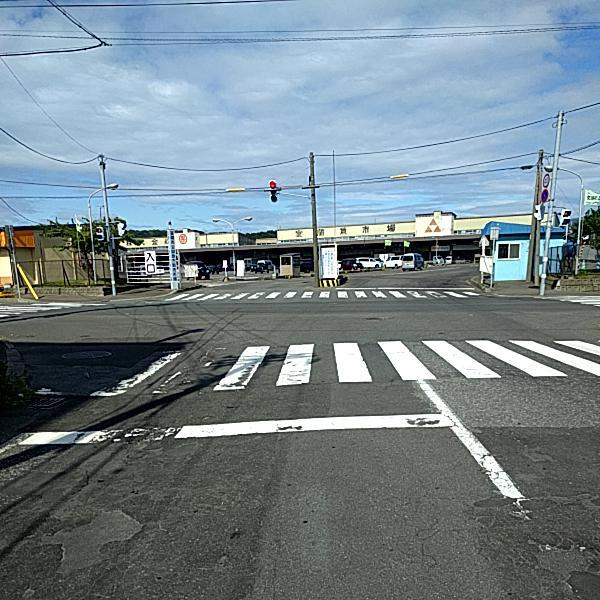D20: (477, 490, 599, 588)
D40: (43, 498, 154, 576), (520, 534, 599, 594)
D43: (123, 331, 334, 405)
